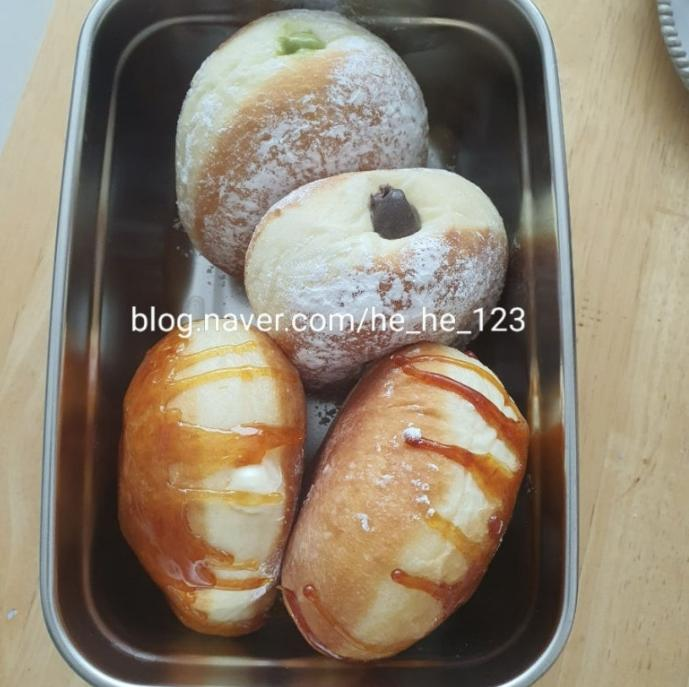Lunch Box: (41, 0, 576, 686)
